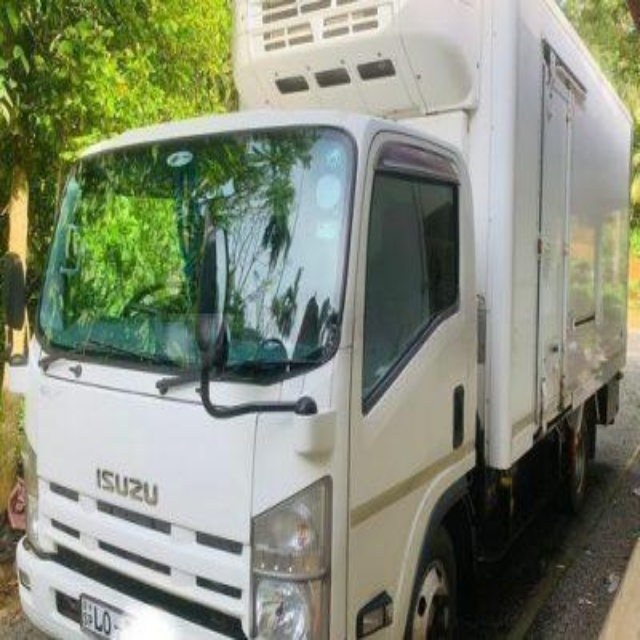Truck: (2, 2, 632, 640)
